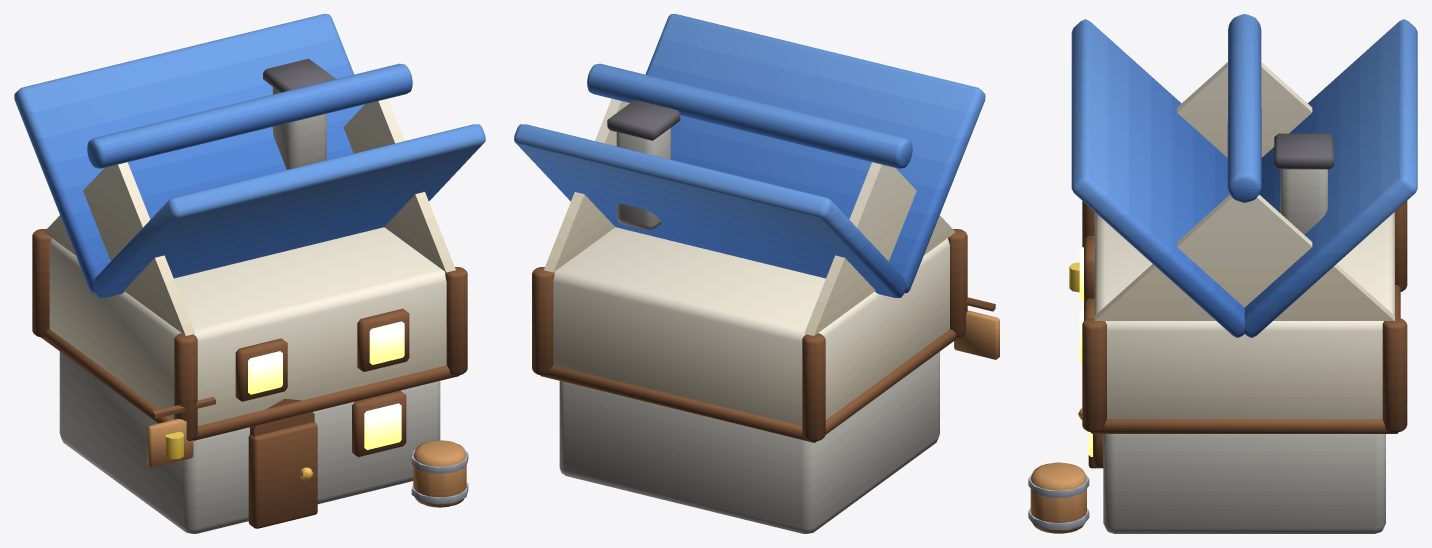
File: tavernB.glb
3 views of the same model, side by side, from view 1: azimuth 30°, elevation 25°; view 2: azimuth 150°, elevation 25°; view 3: azimuth 270°, elevation 25° (orthographic). The views are drawn at different scales.
Visible parts, largest first — view 1: tavernB; view 2: tavernB; view 3: tavernB.
Part boxes in pixels (box(x1,y1,x2,y2)): tavernB: box(14, 14, 485, 533); tavernB: box(514, 14, 999, 533); tavernB: box(1028, 14, 1417, 533).
Bounding box in the file's own units: 1.37 × 1.41 × 1.31.
1 material, 1 textured.
